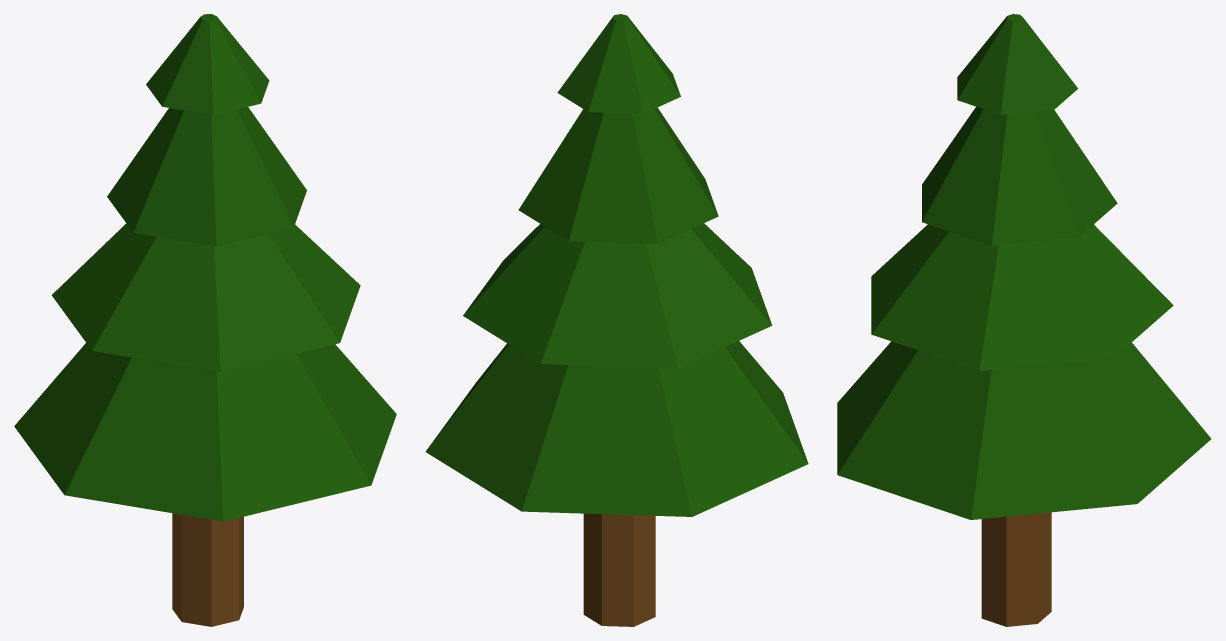
Rendered from tree2.fbx.
The picture shows the model from 3 angles, left to right: view 1: azimuth 30°, elevation 25°; view 2: azimuth 150°, elevation 25°; view 3: azimuth 270°, elevation 25°; orthographic projection.
Parts seen in each view (by area): view 1: Cylinder.001; view 2: Cylinder.001; view 3: Cylinder.001.
Part boxes in pixels (x1,y1,x2,y2): Cylinder.001: [14, 14, 396, 626]; Cylinder.001: [425, 14, 808, 626]; Cylinder.001: [837, 14, 1211, 626].
Bounding box in the file's own units: 293 × 501 × 286.
